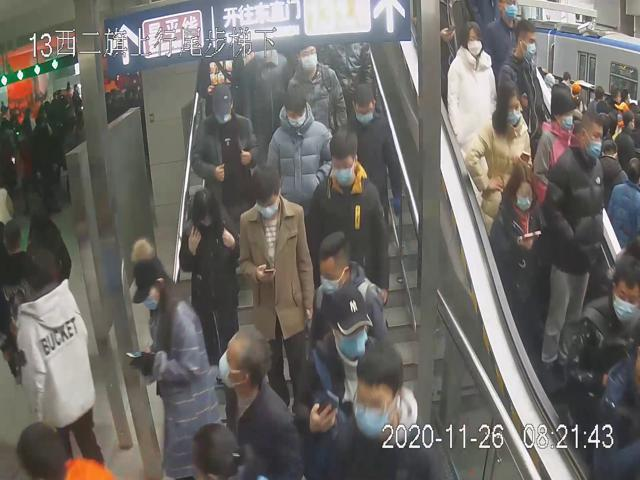person: (128, 237, 215, 475), (542, 109, 608, 386), (240, 161, 317, 395), (298, 286, 393, 472), (308, 128, 391, 318), (203, 322, 299, 479), (177, 184, 241, 367), (464, 76, 533, 225), (315, 228, 388, 356), (264, 87, 332, 212), (445, 20, 495, 177), (192, 85, 257, 201), (337, 78, 392, 208), (285, 40, 343, 132)
